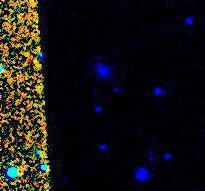star: (9, 145, 39, 175)
